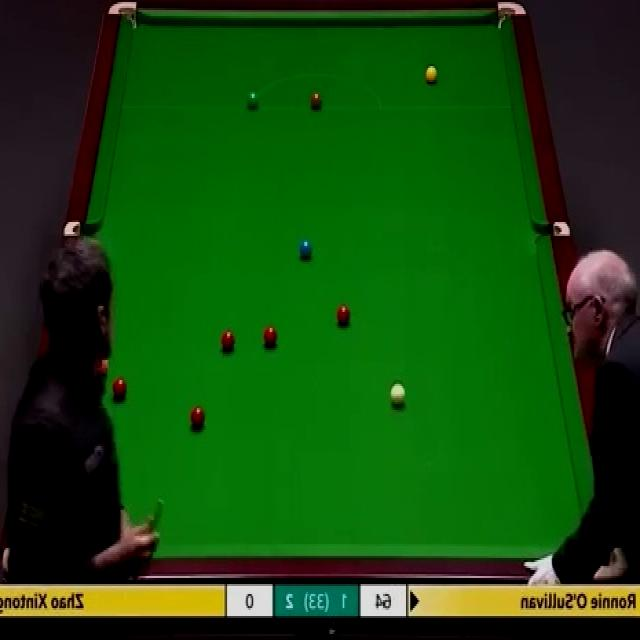pocket: (596, 548, 632, 578), (495, 0, 528, 32), (110, 2, 139, 30), (65, 220, 99, 237), (538, 220, 572, 237)
